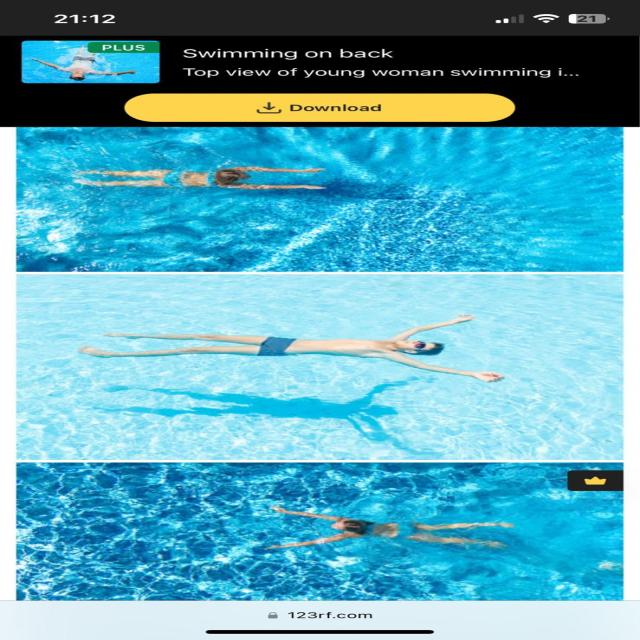Swimming: (83, 315, 506, 383), (260, 501, 513, 551), (74, 162, 334, 195)
